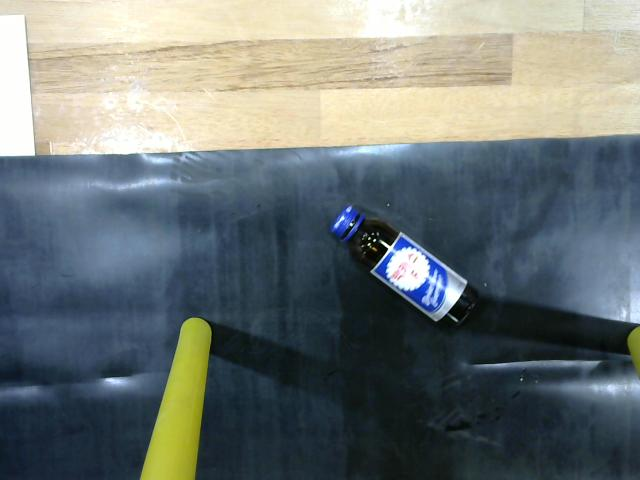glass: (321, 197, 490, 345)
